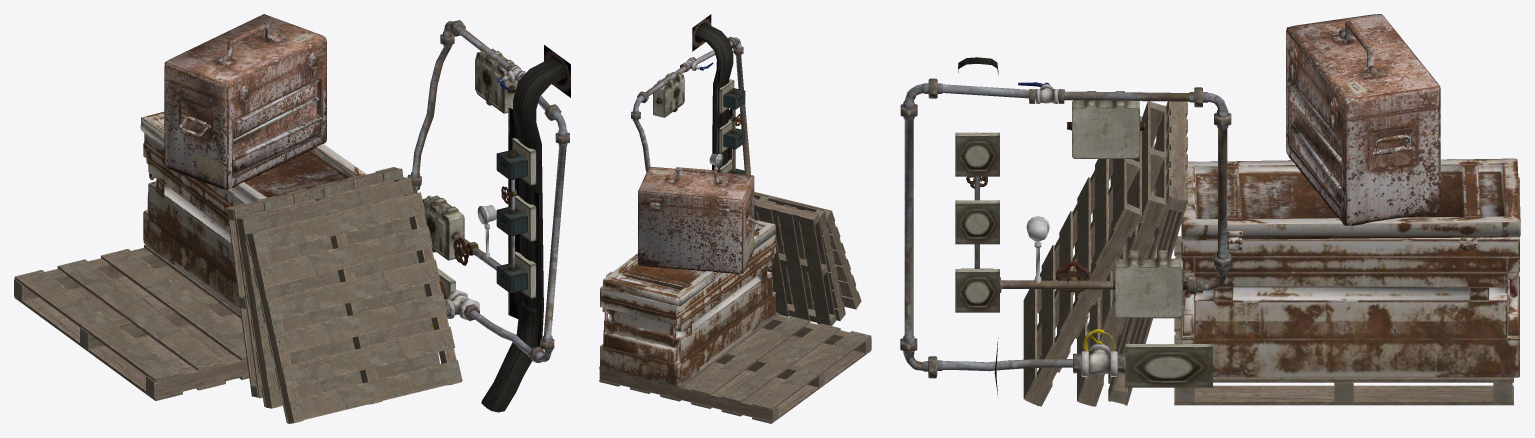
The model's file is underwaterlab_dwelling_300_edge_deep_g.glb.
3 views of the same model, side by side, from view 1: azimuth 30°, elevation 25°; view 2: azimuth 150°, elevation 25°; view 3: azimuth 270°, elevation 25° (orthographic). The views are drawn at different scales.
Visible parts, largest first — view 1: pallet_stacks_c (3), submarine_greeble_150x200_01_curved_LOD0, metal_crate_a (4), pallet_stacks_c, pallet_stacks_c (2), metal_crate_b (2), pallet_stacks_c (1); view 2: metal_crate_b (2), pallet_stacks_c, metal_crate_a (4), submarine_greeble_150x200_01_curved_LOD0, pallet_stacks_c (1), pallet_stacks_c (2), pallet_stacks_c (3); view 3: metal_crate_b (2), submarine_greeble_150x200_01_curved_LOD0, metal_crate_a (4), pallet_stacks_c (3), pallet_stacks_c, pallet_stacks_c (2), pallet_stacks_c (1).
Part boxes in pixels (x1,y1,x2,y2): pallet_stacks_c (3): (245, 192, 462, 423); submarine_greeble_150x200_01_curved_LOD0: (407, 20, 570, 412); metal_crate_a (4): (164, 14, 326, 189); pallet_stacks_c: (14, 244, 249, 400); pallet_stacks_c (2): (235, 177, 439, 408); metal_crate_b (2): (140, 112, 366, 313); pallet_stacks_c (1): (226, 167, 403, 398); metal_crate_b (2): (600, 219, 776, 386); pallet_stacks_c: (599, 312, 871, 423); metal_crate_a (4): (638, 167, 758, 273); submarine_greeble_150x200_01_curved_LOD0: (631, 14, 750, 174); pallet_stacks_c (1): (754, 197, 836, 325); pallet_stacks_c (2): (754, 193, 845, 320); pallet_stacks_c (3): (754, 192, 861, 309); metal_crate_b (2): (1181, 158, 1520, 377); submarine_greeble_150x200_01_curved_LOD0: (900, 57, 1231, 397); metal_crate_a (4): (1286, 14, 1440, 225); pallet_stacks_c (3): (1023, 116, 1141, 406); pallet_stacks_c: (1174, 236, 1513, 405); pallet_stacks_c (2): (1077, 101, 1166, 406); pallet_stacks_c (1): (1108, 101, 1187, 405).
Size of the model in its own units: 1.99 by 1.97 by 2.74.
Materials: 5 (5 with a texture image).
